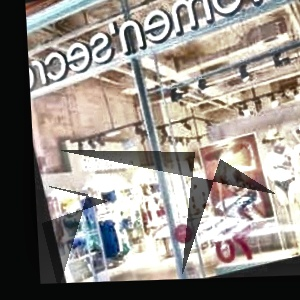women_secret: (62, 0, 300, 10)
